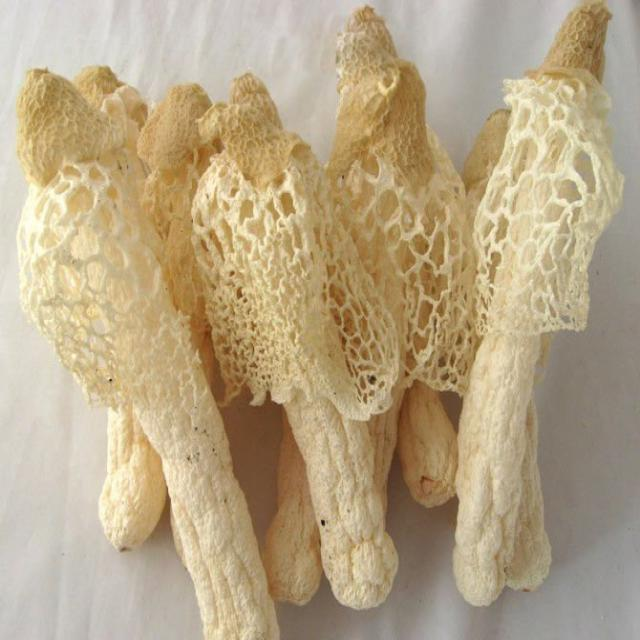Dictyophora indusiate: (17, 69, 282, 640), (188, 73, 402, 608), (455, 7, 624, 603), (326, 8, 478, 506)
